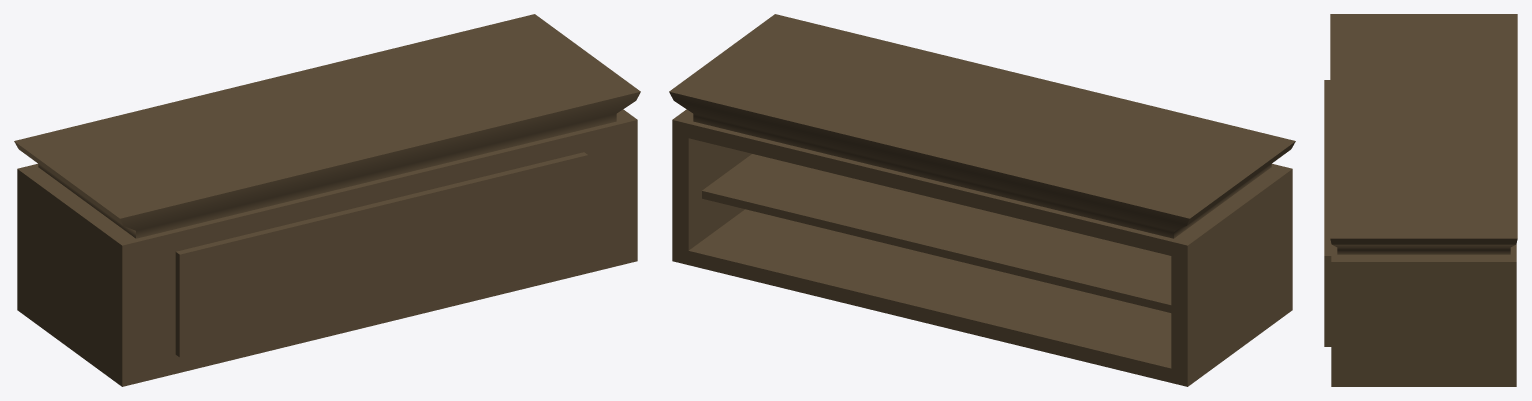
The model's file is DeskA.fbx.
3 renders of one model, left to right at view 1: azimuth 30°, elevation 25°; view 2: azimuth 150°, elevation 25°; view 3: azimuth 270°, elevation 25°, orthographic. The views are drawn at different scales.
Parts seen in each view (by area): view 1: DeskB; view 2: DeskB; view 3: DeskB.
Boxes of the visible parts, box(x1,y1,x2,y2) form: DeskB: box(14, 14, 640, 386); DeskB: box(669, 14, 1295, 386); DeskB: box(1324, 14, 1517, 386).
Bounding box in the file's own units: 382 × 119 × 139.
